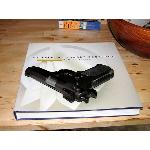Pistol: (24, 63, 114, 103)
